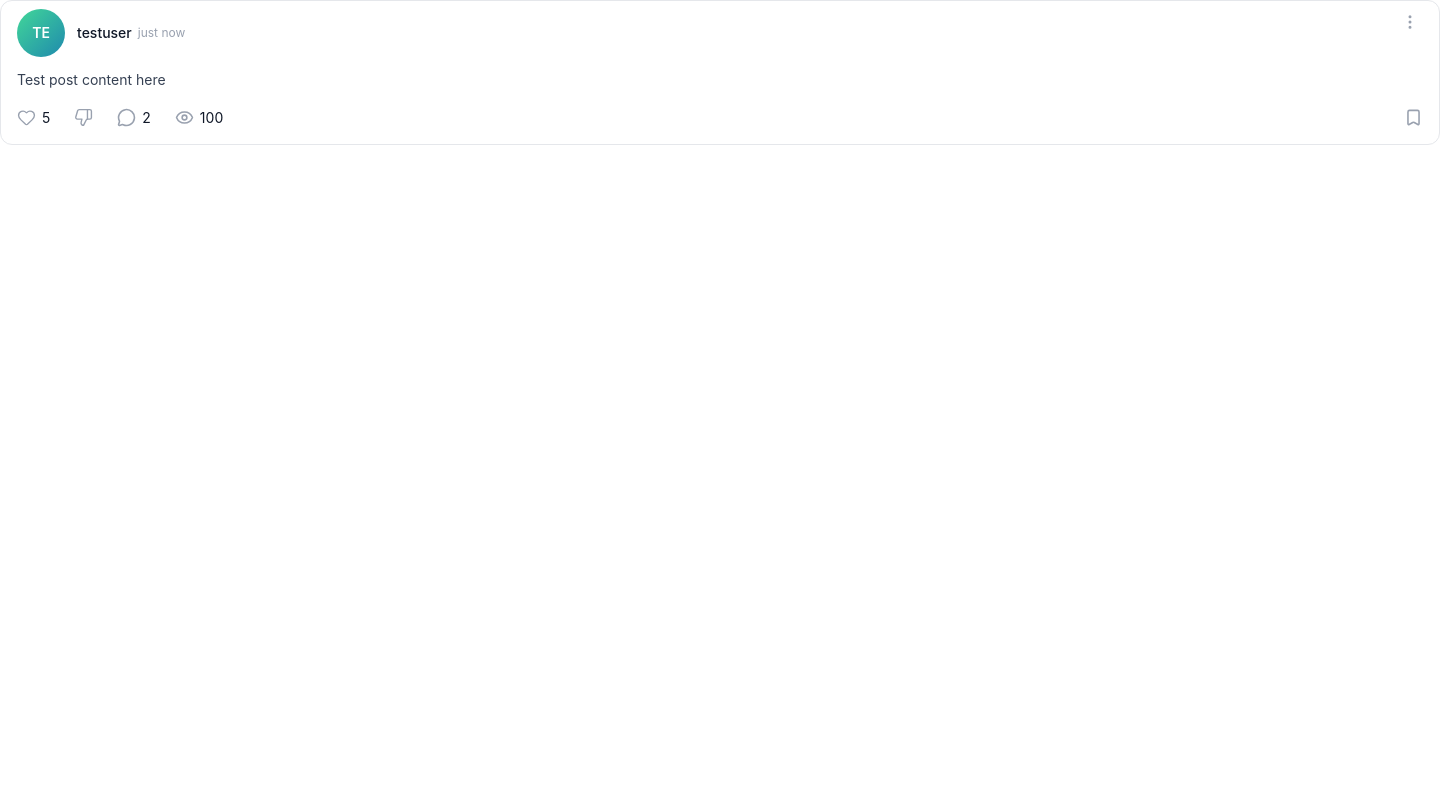
PostCard › cancels edit modal and returns to content
Click the button named "Post options".
click(1410, 22)  # box [1397,9,1423,35]
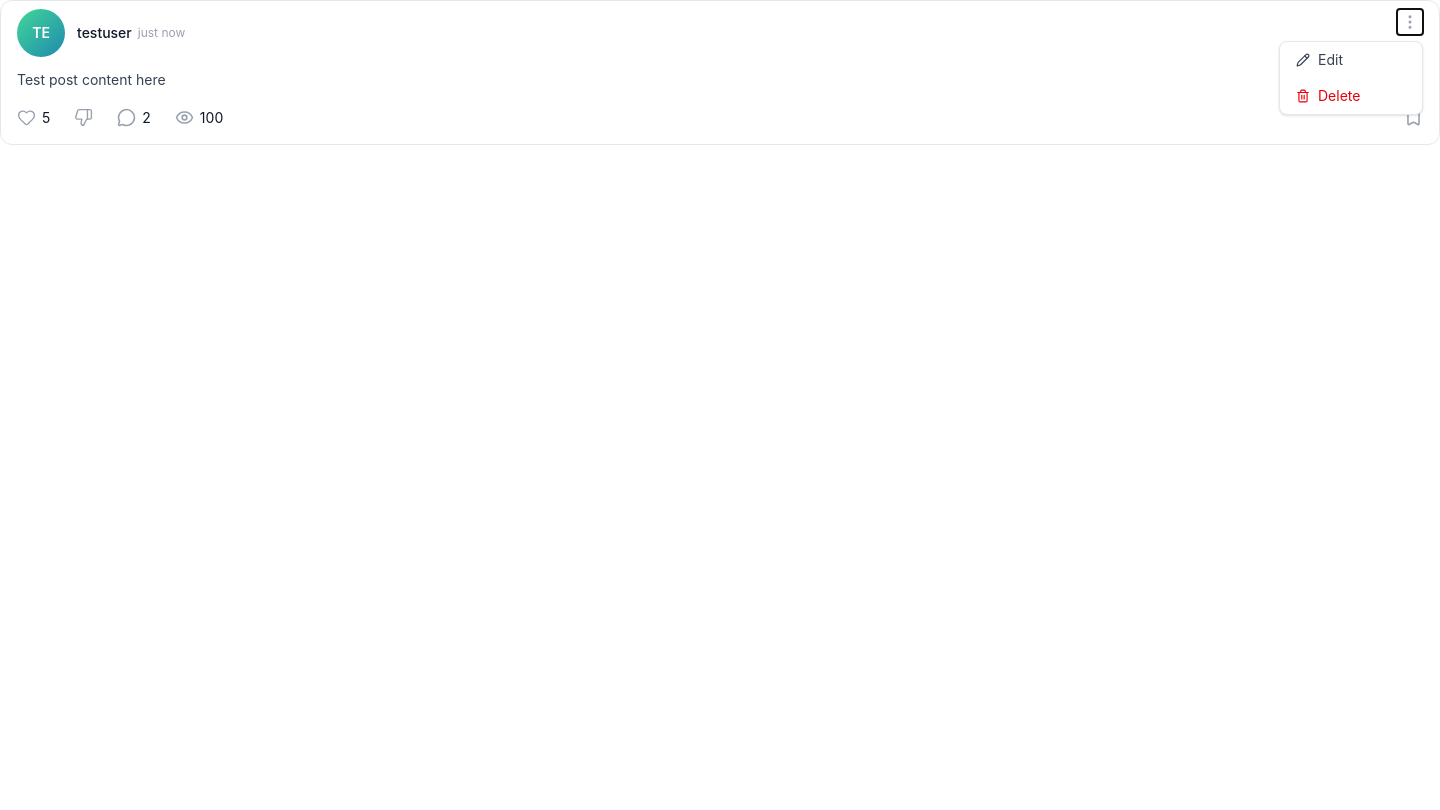
Click the button "Edit".
click(1351, 60)  # box [1280,42,1422,78]
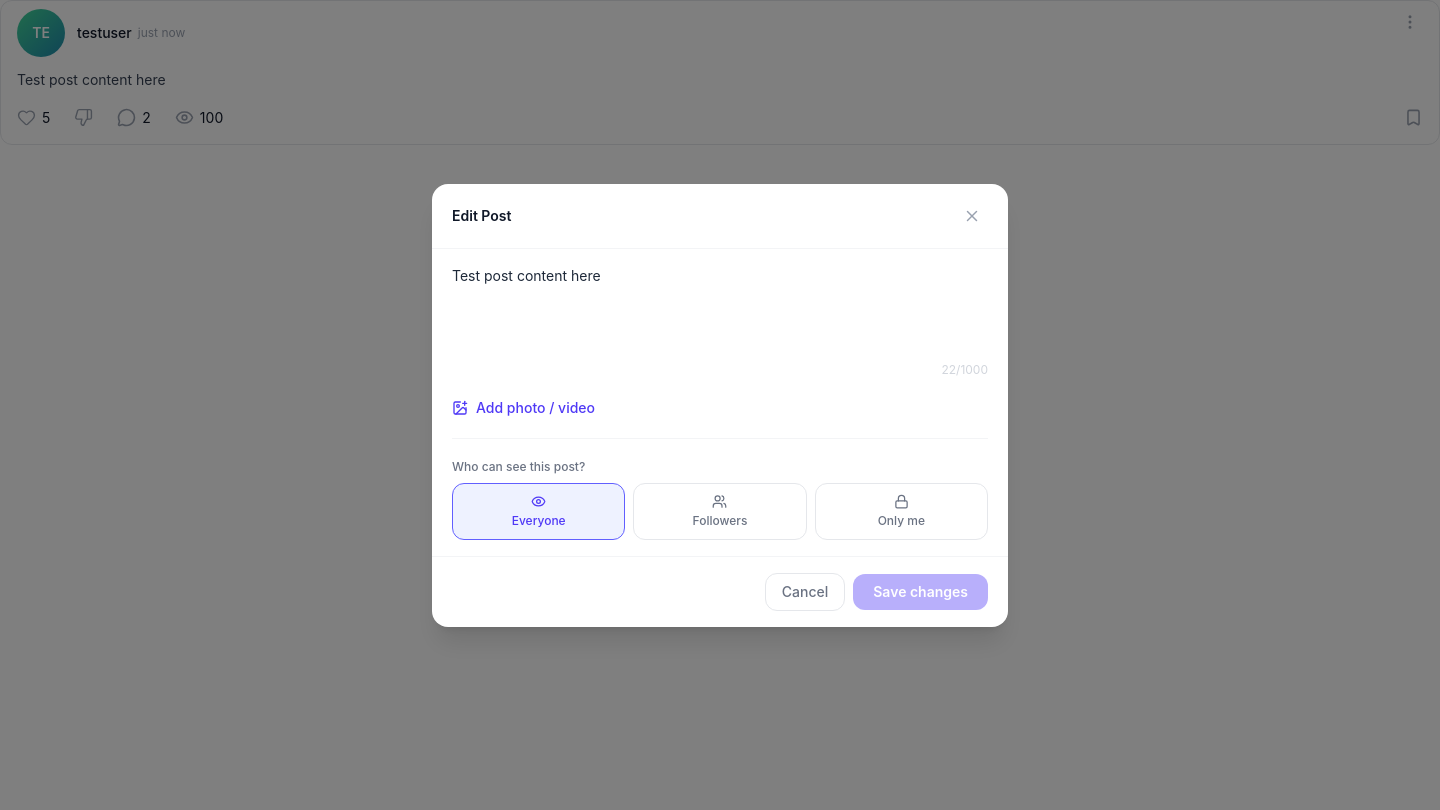
Click the button "Cancel".
click(805, 592)  # box [765,572,845,610]
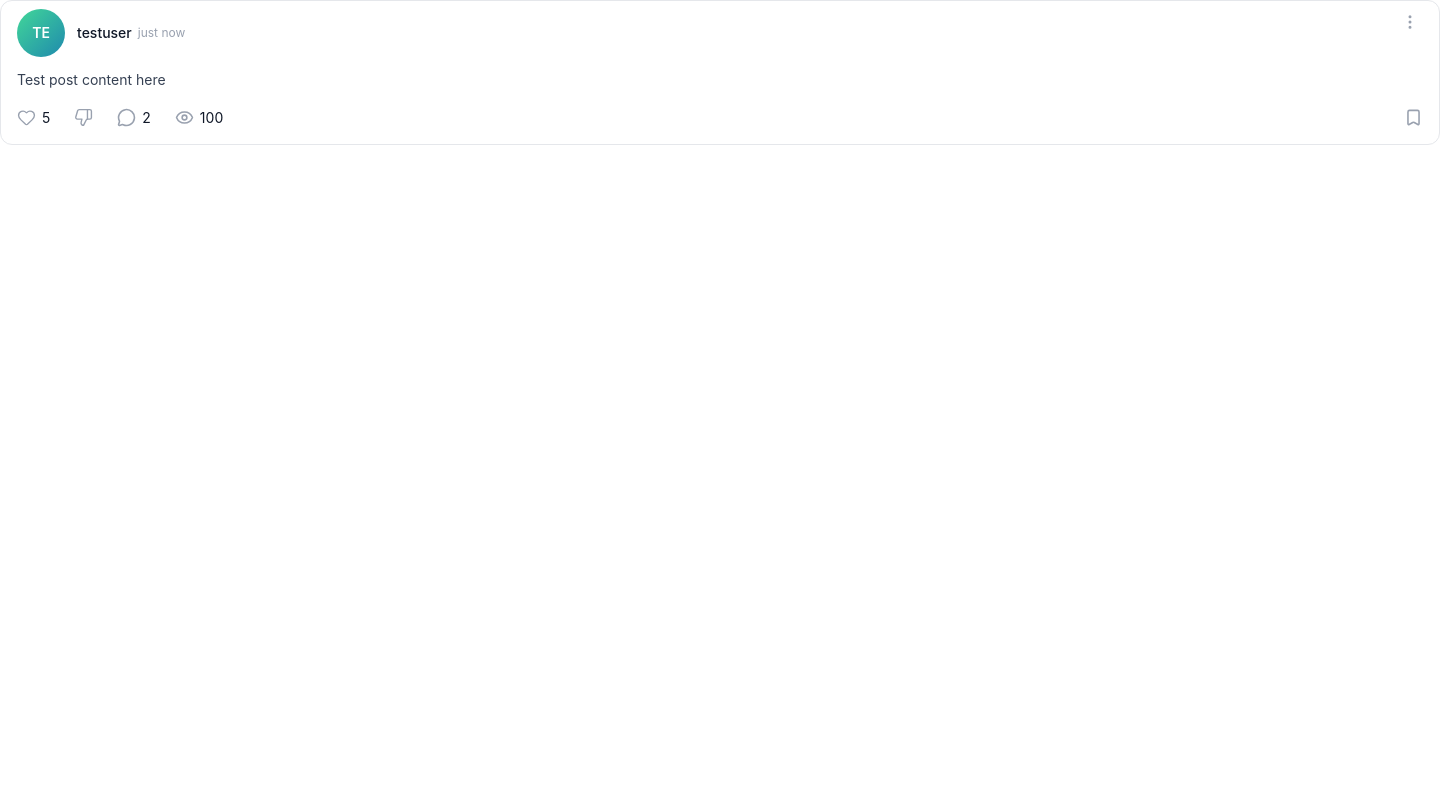
Check: the text "Test post content here" is shown, box [17,71,166,88]
Check: the button "Save changes" is gone
